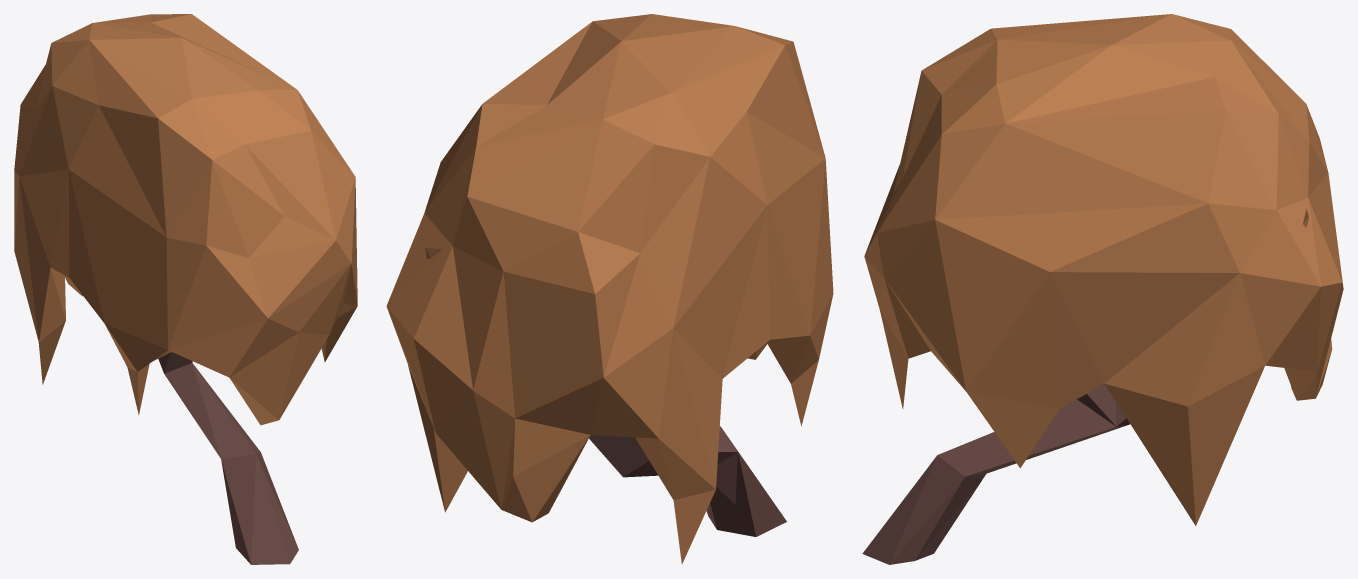
Rendered from Willow_Autumn_3.lod2.glb.
3 renders of one model, left to right at view 1: azimuth 30°, elevation 25°; view 2: azimuth 150°, elevation 25°; view 3: azimuth 270°, elevation 25°, orthographic. The views are drawn at different scales.
Parts seen in each view (by area): view 1: Willow_Autumn_3; view 2: Willow_Autumn_3; view 3: Willow_Autumn_3.
Part boxes in pixels (x1,y1,x2,y2): Willow_Autumn_3: [14, 14, 357, 564]; Willow_Autumn_3: [386, 14, 833, 563]; Willow_Autumn_3: [862, 14, 1343, 564].
Bounding box in the file's own units: 1.3 × 2.33 × 1.99.
